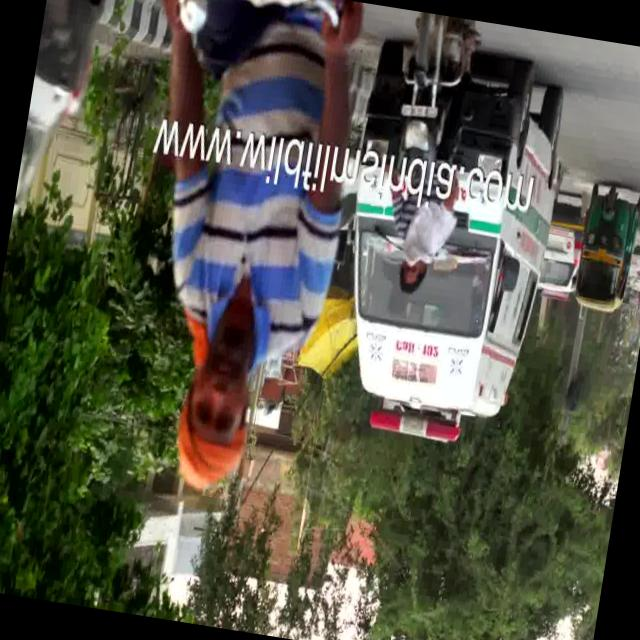ambulance: (358, 119, 563, 442)
